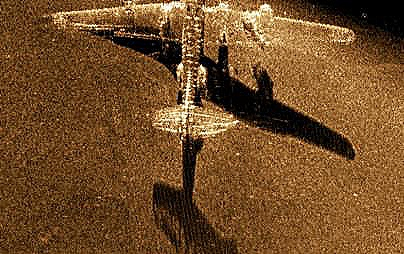aircraft: (45, 0, 357, 144)
